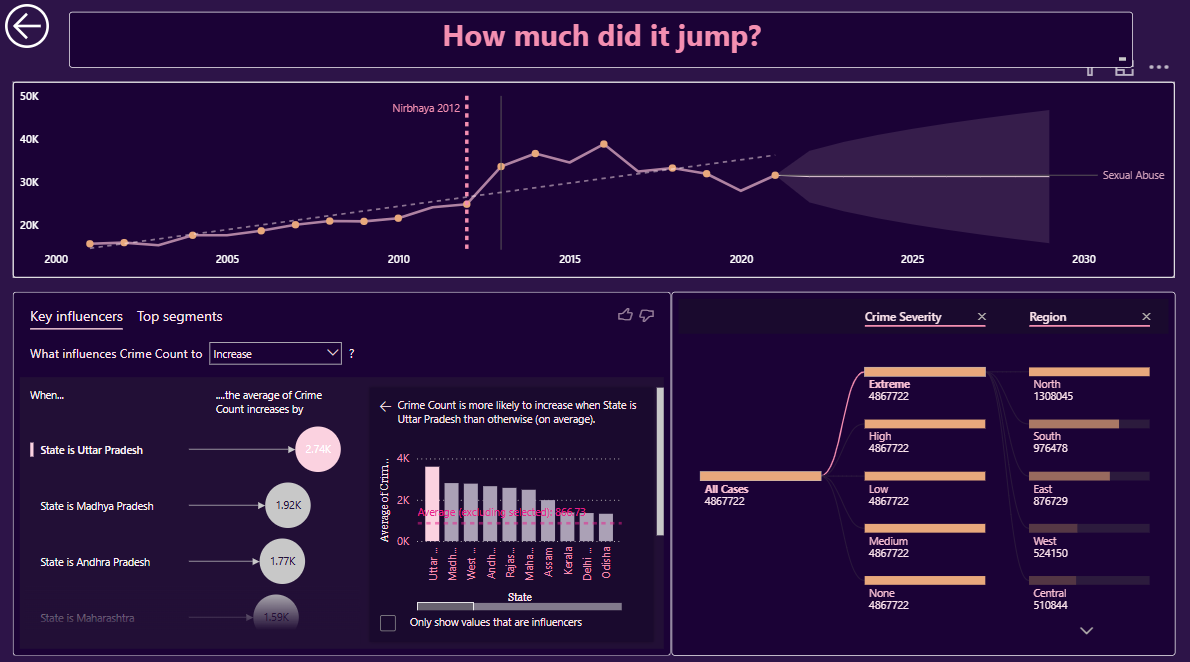

The page's visual inventory and layout, read from the dashboard file:
{"tool":"powerbi","page":{"name":"Crime Trends 2001-2021","canvas":[1366,768],"ordinal":1},"visuals":[{"type":"lineChart","title":"How much did it jump?","fields":{"Category":["Date Table.Year"],"Y":["Fact_Crimes.Sexual Abuse"]},"box":[16,96,1328,224],"z":1000},{"type":"textbox","title":"How much did it jump?","box":[80,16,1216,64],"z":2000},{"type":"actionButton","box":[0,0,64,64],"z":3000},{"type":"keyDriversVisual","fields":{"ExplainBy":["Dim_State.Region","Dim_State.State","Date Table.Year"],"Target":["Fact_Crimes(Unpivoted).Crime Count"]},"box":[16,336,752,416],"z":4000},{"type":"decompositionTreeVisual","fields":{"ExplainBy":["Fact_Crimes(Unpivoted).Crime Severity","Dim_State.Region"],"Analyze":["Fact_Crimes.All Cases"]},"box":[768,336,576,416],"z":5000}]}

Visuals, with their boxes on the page's 1366x768 design canvas (x1, y1, x2, y2). These are canvas units, not pixel positions in the 1190x662 screenshot, which may show the page scaled, cropped or inside an application window:
"How much did it jump?" lineChart: x1=16 y1=96 x2=1344 y2=320
"How much did it jump?" textbox: x1=80 y1=16 x2=1296 y2=80
actionButton: x1=0 y1=0 x2=64 y2=64
keyDriversVisual - Dim_State.Region x Dim_State.State: x1=16 y1=336 x2=768 y2=752
decompositionTreeVisual - Fact_Crimes(Unpivoted).Crime Severity x Dim_State.Region: x1=768 y1=336 x2=1344 y2=752
